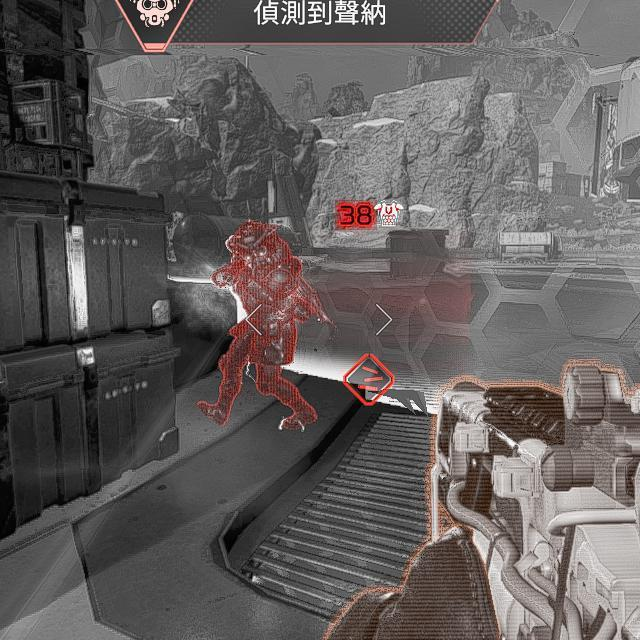avatar: (196, 218, 319, 431)
